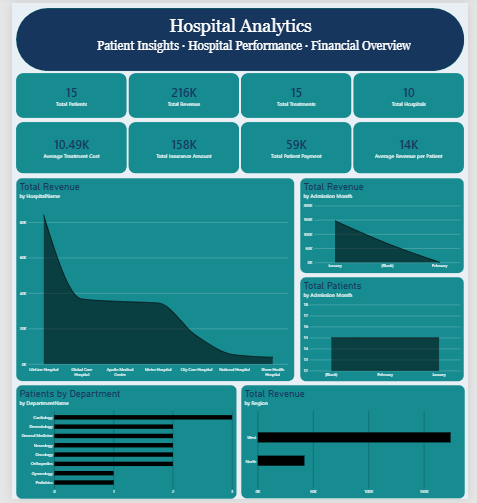

This screenshot's page, from the dashboard's own definition file:
{"tool":"powerbi","page":{"name":"Hospital Executive Dashboard","canvas":[2280,2480],"ordinal":1},"visuals":[{"type":"shape","box":[18.4,23.7,2242.1,315.8],"z":2},{"type":"textbox","box":[123.7,63.2,2034.2,147.4],"z":3},{"type":"textbox","box":[426.3,181.6,1573.7,123.7],"z":4},{"type":"cardVisual","fields":{"Data":["Medical Transactions.Total Patients","Medical Transactions.Total Revenue","Medical Transactions.Total Treatments","Medical Transactions.Total Hospitals"]},"box":[17.5,350,2242.5,225],"z":5},{"type":"cardVisual","fields":{"Data":["Medical Transactions.Average Treatment Cost","Medical Transactions.Total Insurance Amount","Medical Transactions.Total Patient Payment","Medical Transactions.Average Revenue per Patient"]},"box":[17.5,592.5,2242.5,257.5],"z":8},{"type":"lineChart","fields":{"Category":["Medical Transactions.Admission Month"],"Y":["Medical Transactions.Total Patients"]},"box":[1440,1370,820,522],"z":9},{"type":"lineChart","fields":{"Category":["Medical Transactions.Admission Month"],"Y":["Medical Transactions.Total Revenue"]},"box":[1440,876,820,476],"z":10},{"type":"clusteredBarChart","fields":{"Category":["Departments.DepartmentName"],"Y":["Medical Transactions.Patients by Department"]},"box":[18.5,1911.1,1103.7,570.4],"z":11},{"type":"clusteredBarChart","fields":{"Category":["Hospitals.Region"],"Y":["Medical Transactions.Total Revenue"]},"box":[1144,1912,1120,568],"z":12},{"type":"lineChart","fields":{"Category":["Hospitals.HospitalName"],"Y":["Medical Transactions.Total Revenue"]},"box":[20,876,1392,1016],"z":13}]}

Visuals, with their boxes in screenshot pixels (x1, y1, x2, y2):
shape: select_region(14, 6, 463, 69)
textbox: select_region(35, 14, 442, 43)
textbox: select_region(96, 38, 411, 62)
cardVisual - Medical Transactions.Total Patients x Medical Transactions.Total Revenue: select_region(14, 71, 463, 116)
cardVisual - Medical Transactions.Average Treatment Cost x Medical Transactions.Total Insurance Amount: select_region(14, 120, 463, 171)
lineChart - Medical Transactions.Admission Month x Medical Transactions.Total Patients: select_region(299, 275, 463, 380)
lineChart - Medical Transactions.Admission Month x Medical Transactions.Total Revenue: select_region(299, 177, 463, 272)
clusteredBarChart - Departments.DepartmentName x Medical Transactions.Patients by Department: select_region(14, 384, 235, 498)
clusteredBarChart - Hospitals.Region x Medical Transactions.Total Revenue: select_region(239, 384, 463, 497)
lineChart - Hospitals.HospitalName x Medical Transactions.Total Revenue: select_region(14, 177, 293, 380)
